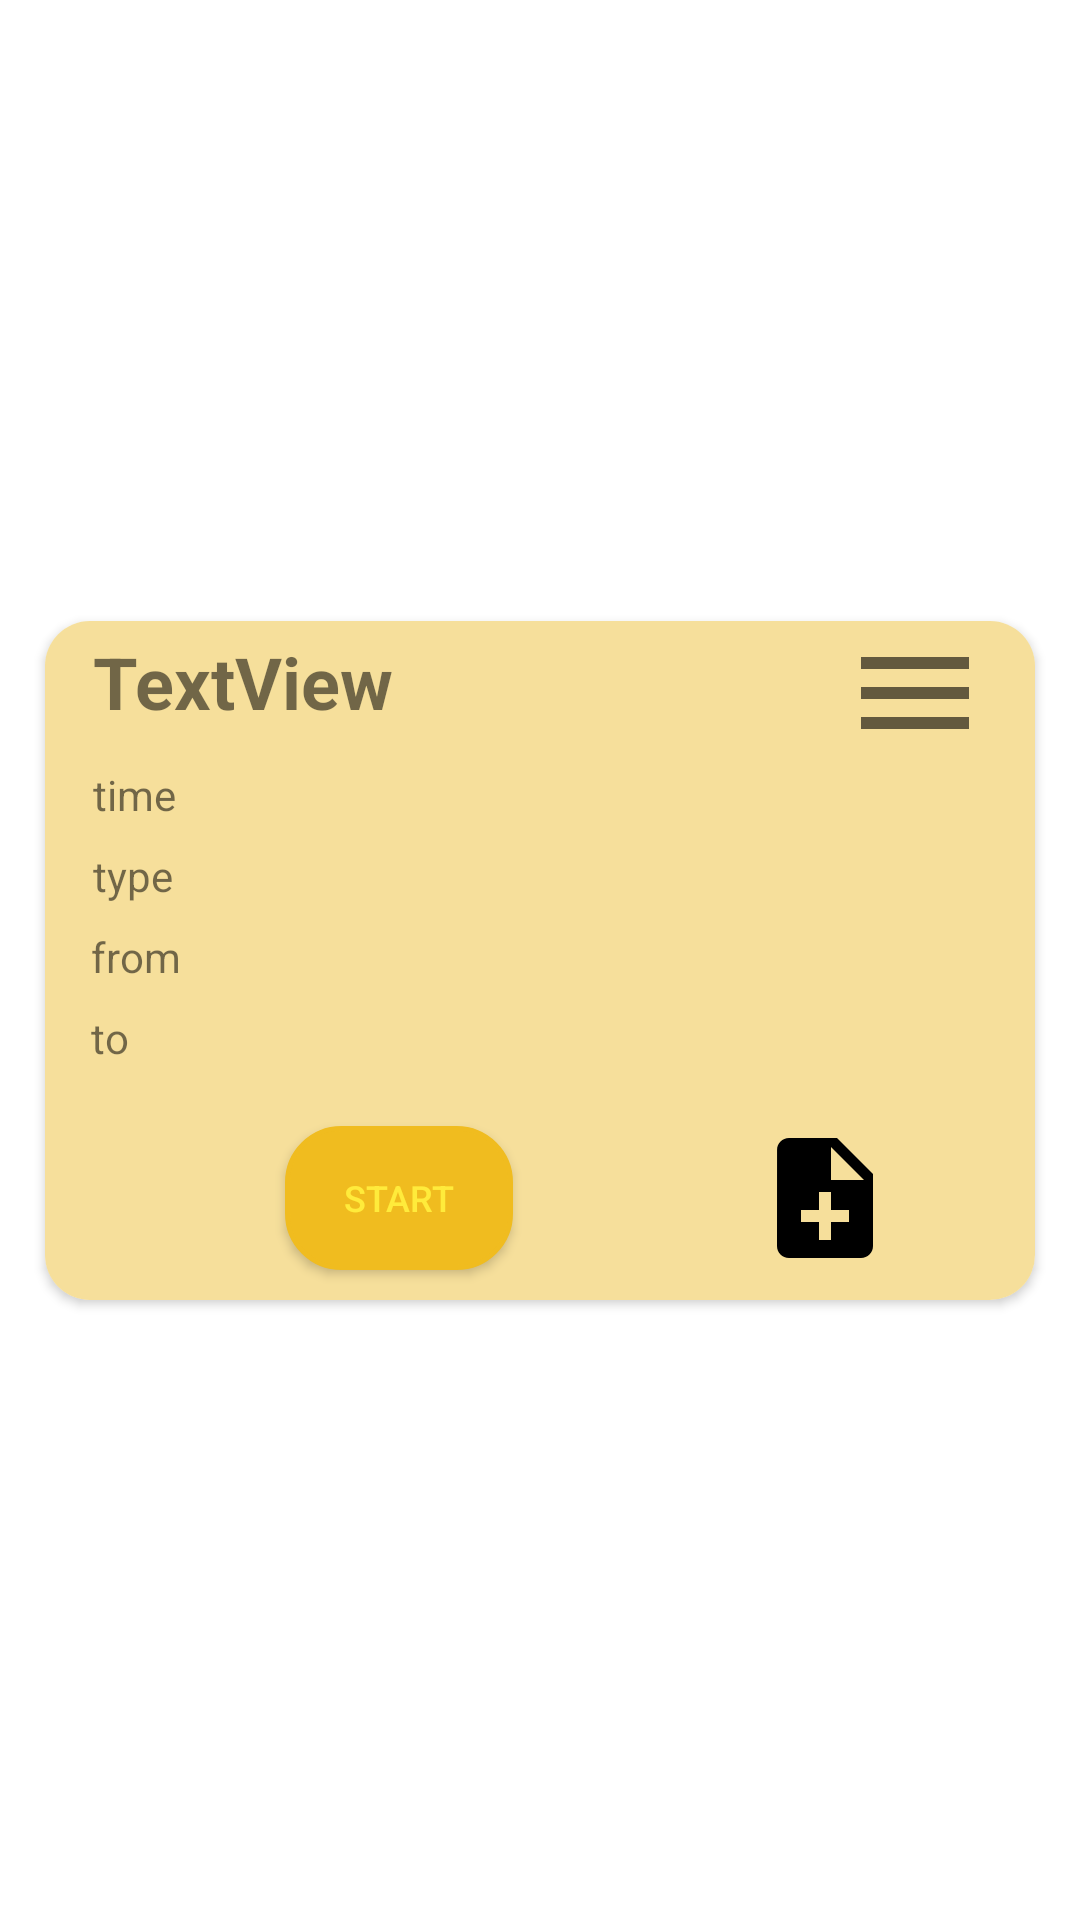

Named icons in this screenshot (1080 × 1920) and their bounding boxes, (x1, y1, x2, y2):
menu: (861, 657, 969, 729)
note: (777, 1138, 873, 1258)
